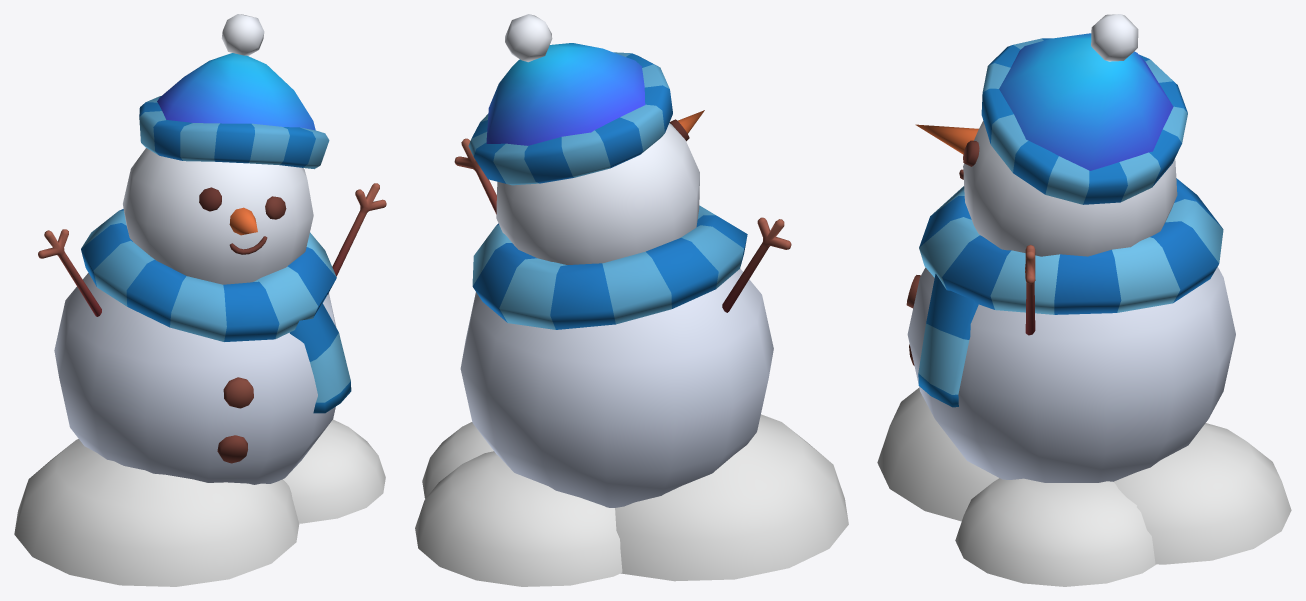
File: noel_deco_snowman.fbx
The picture shows the model from 3 angles, left to right: view 1: azimuth 30°, elevation 25°; view 2: azimuth 150°, elevation 25°; view 3: azimuth 270°, elevation 25°; orthographic projection. The views are drawn at different scales.
Visible parts, largest first — view 1: noel_deco_snowman; view 2: noel_deco_snowman; view 3: noel_deco_snowman.
Part boxes in pixels (box(x1,y1,x2,y2)): noel_deco_snowman: box(14, 14, 386, 586); noel_deco_snowman: box(415, 14, 848, 586); noel_deco_snowman: box(877, 14, 1291, 586).
Bounding box in the file's own units: 200 × 248 × 181.
